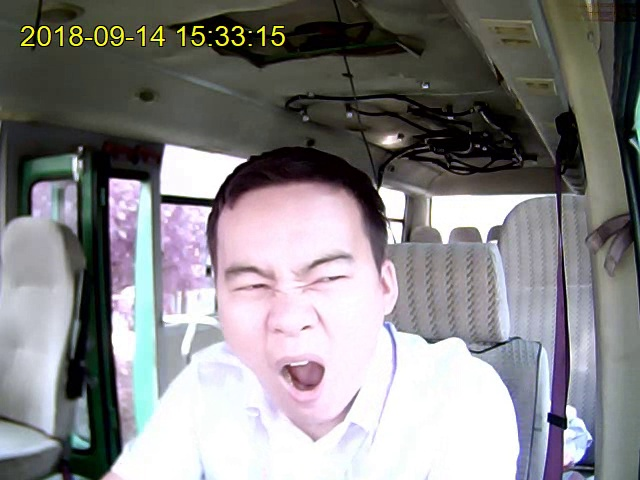open_mouth: (268, 352, 328, 407)
